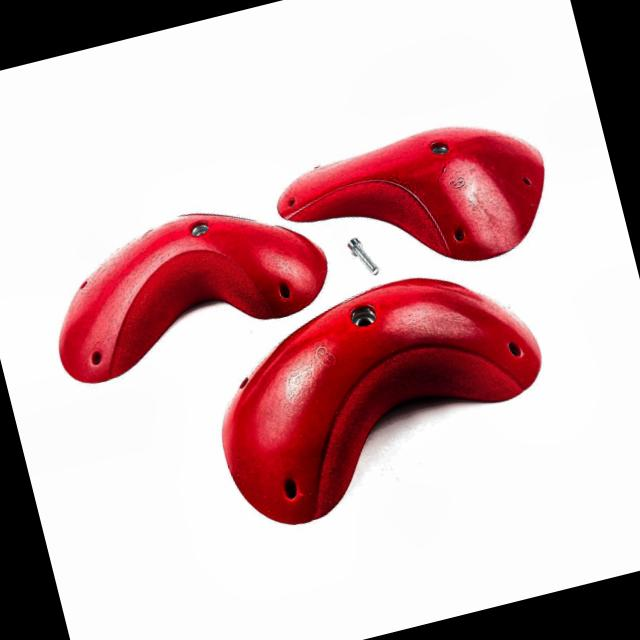Hold: (175, 250, 568, 544), (29, 184, 333, 389), (264, 95, 562, 298)
